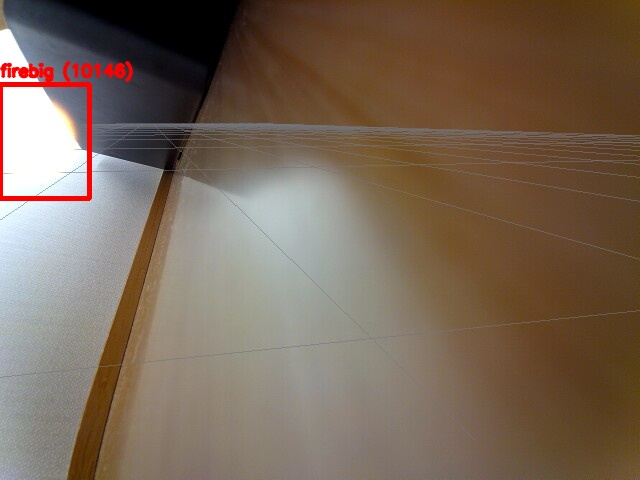firebig: (0, 84, 89, 198)
